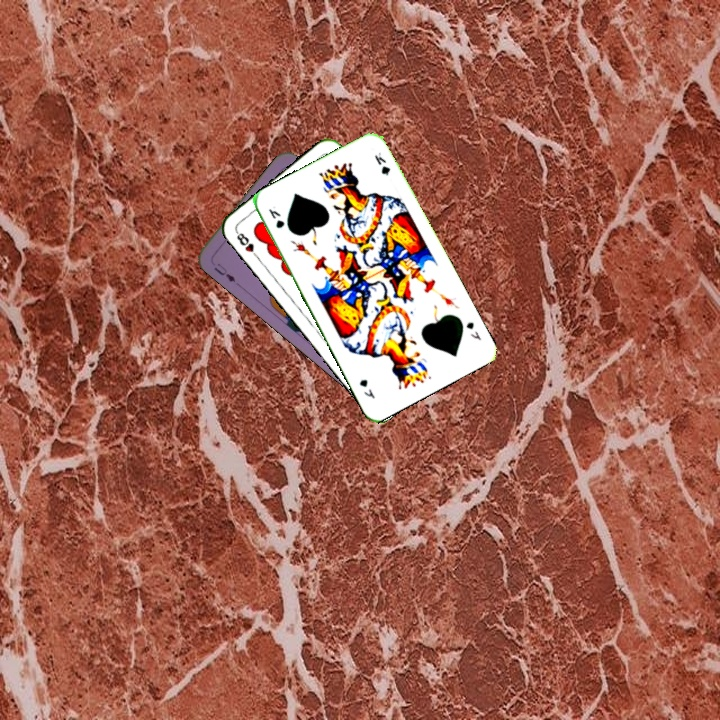EU: (210, 259, 238, 285)
GK: (264, 205, 287, 231), (462, 318, 484, 343)
H8: (232, 227, 262, 262)
